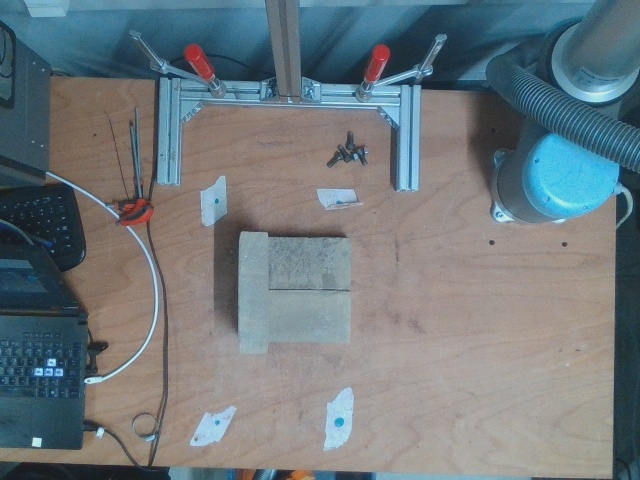brick-side: (237, 233, 267, 354)
